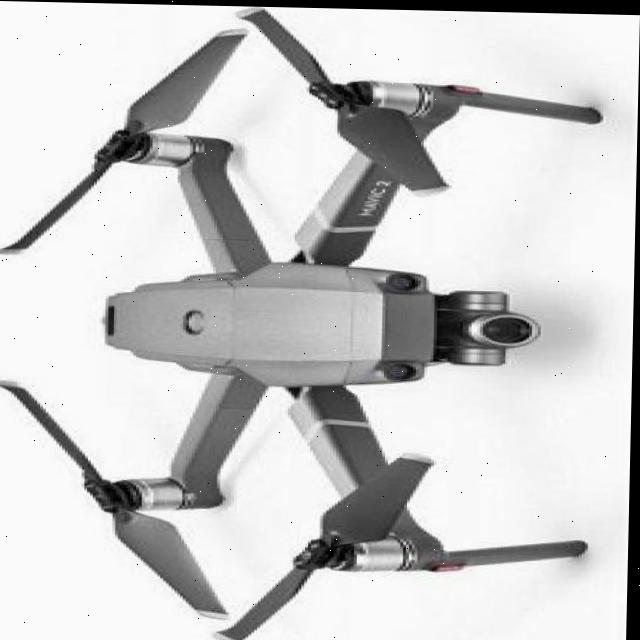drone: (33, 15, 536, 635)
